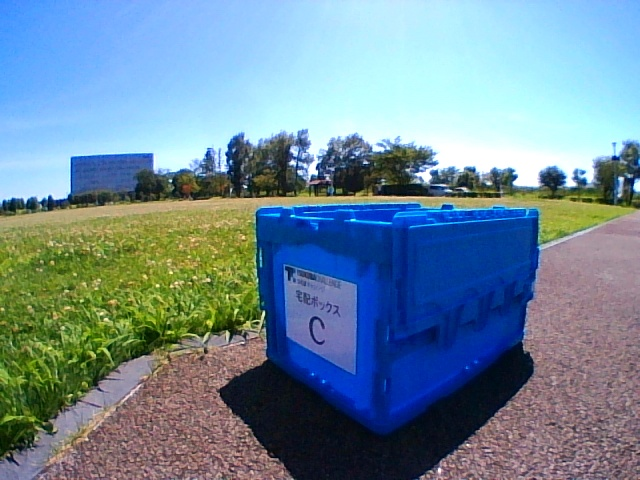blue_box: (256, 202, 539, 436)
tag_c: (300, 282, 341, 345)
